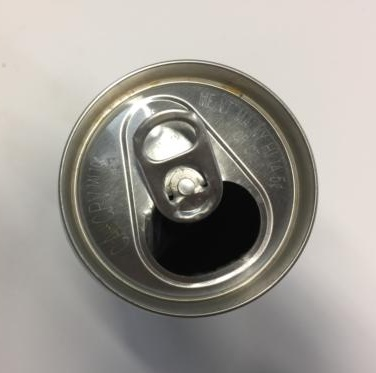Metal: (45, 56, 321, 340)
